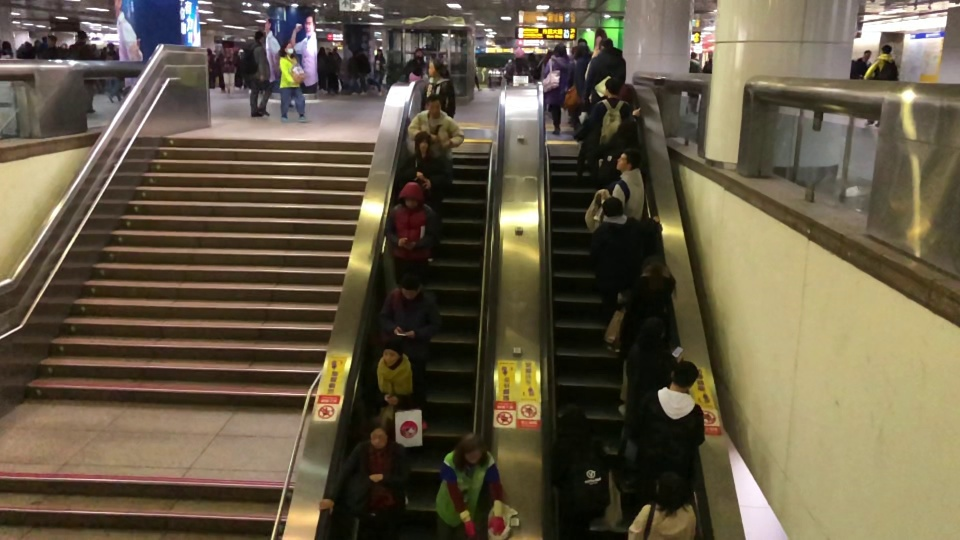person_head: (653, 470, 686, 508), (366, 414, 395, 451), (669, 359, 699, 394), (557, 402, 587, 436), (637, 317, 665, 345), (461, 432, 486, 463), (380, 338, 404, 368), (614, 116, 639, 144), (396, 273, 422, 299), (397, 181, 423, 205), (615, 147, 639, 170), (600, 196, 624, 217), (640, 255, 663, 275), (414, 130, 432, 155), (426, 58, 444, 77), (425, 93, 441, 114), (606, 77, 622, 98), (280, 41, 296, 56), (553, 44, 568, 57), (575, 42, 587, 58), (597, 38, 613, 49), (253, 30, 264, 44), (47, 34, 57, 48), (414, 47, 424, 60), (514, 48, 525, 59), (2, 40, 12, 51), (76, 31, 86, 42), (881, 44, 892, 54), (107, 42, 116, 50), (318, 45, 325, 55), (863, 49, 870, 57), (377, 47, 382, 55), (691, 51, 696, 59), (708, 57, 711, 62)
person_vbox: (319, 414, 411, 540), (613, 255, 677, 417), (362, 337, 421, 509), (379, 273, 438, 435), (589, 196, 663, 321), (635, 359, 706, 480), (622, 317, 682, 458), (435, 431, 506, 540), (549, 400, 611, 516), (401, 130, 451, 264), (383, 180, 439, 287), (588, 77, 641, 154), (405, 93, 465, 158), (630, 469, 697, 527), (598, 147, 645, 220), (597, 116, 641, 188), (863, 43, 898, 130), (584, 38, 627, 106), (241, 29, 272, 118), (543, 44, 572, 137), (68, 31, 99, 116), (279, 40, 309, 125), (421, 56, 455, 116), (568, 41, 588, 133), (104, 42, 121, 104), (504, 49, 532, 84), (688, 51, 701, 117), (373, 48, 386, 97), (316, 45, 328, 95), (40, 33, 62, 60), (702, 56, 713, 75)
